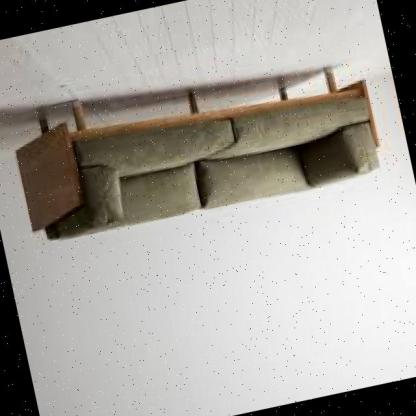Sofa: (2, 30, 406, 279)
